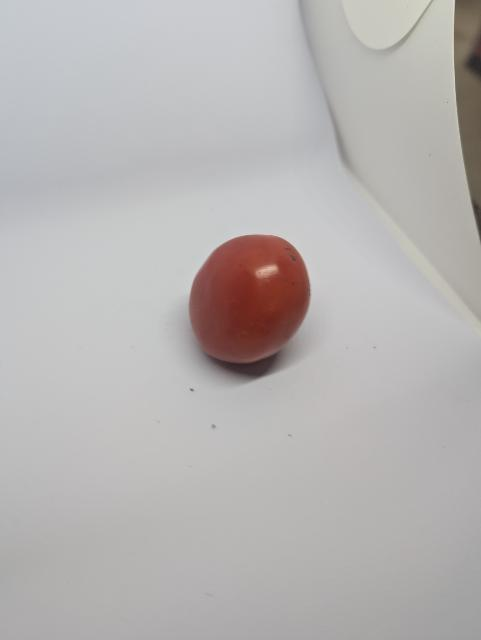red: (188, 231, 313, 367)
